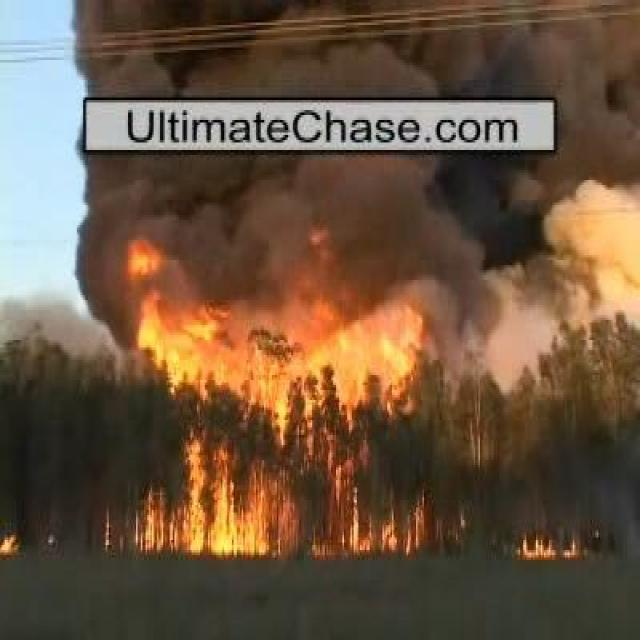fire: (186, 501, 266, 555)
smoke: (76, 160, 572, 296), (83, 1, 552, 90)
